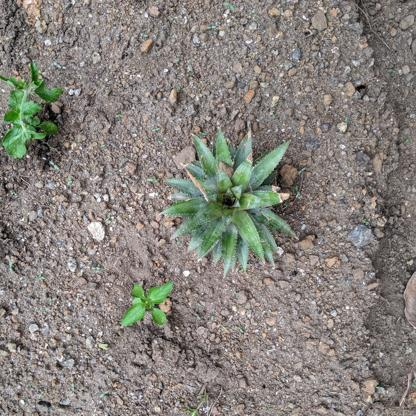pineapple: (158, 129, 300, 275)
weed: (2, 59, 64, 167), (121, 276, 174, 331)
